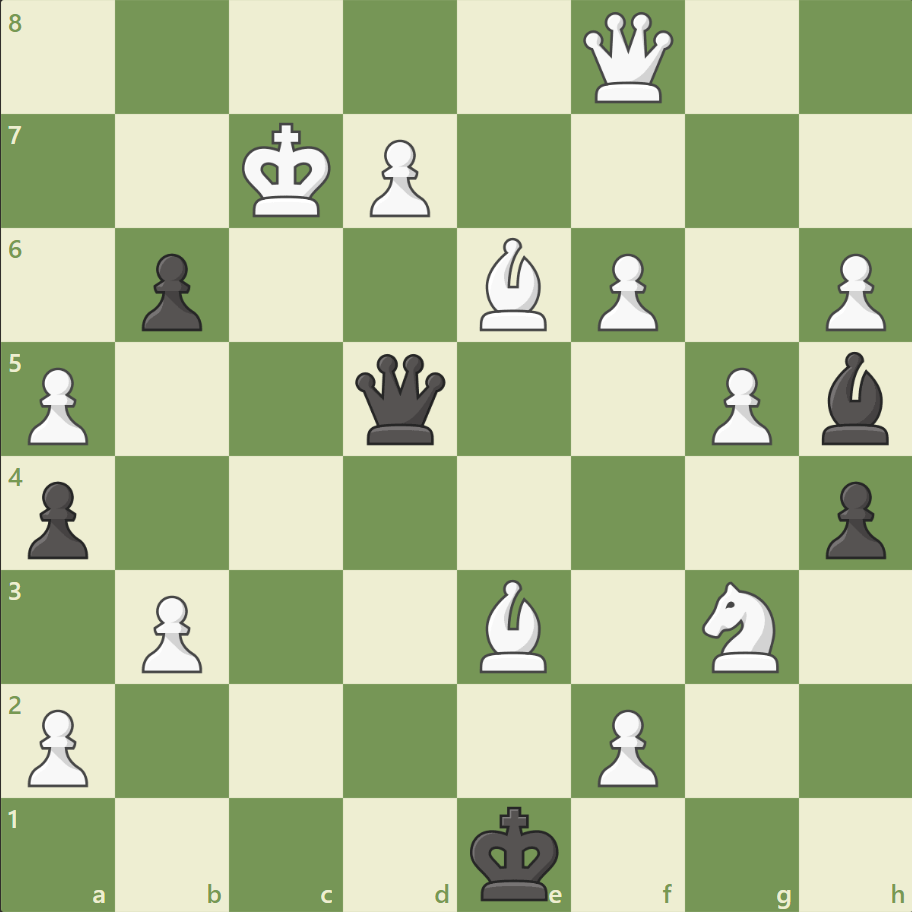B: (471, 233, 555, 336), (471, 574, 555, 676)
K: (238, 117, 338, 225)
N: (692, 575, 789, 677)
P: (20, 359, 95, 450), (701, 359, 776, 450), (133, 586, 208, 677), (20, 700, 95, 791), (361, 132, 435, 223), (588, 246, 662, 337), (815, 246, 889, 337), (588, 700, 662, 791)
Q: (578, 9, 677, 108)
b: (812, 347, 896, 449)
k: (465, 798, 565, 906)
p: (133, 246, 208, 337), (20, 473, 95, 564), (815, 473, 889, 564)
q: (351, 349, 450, 449)
